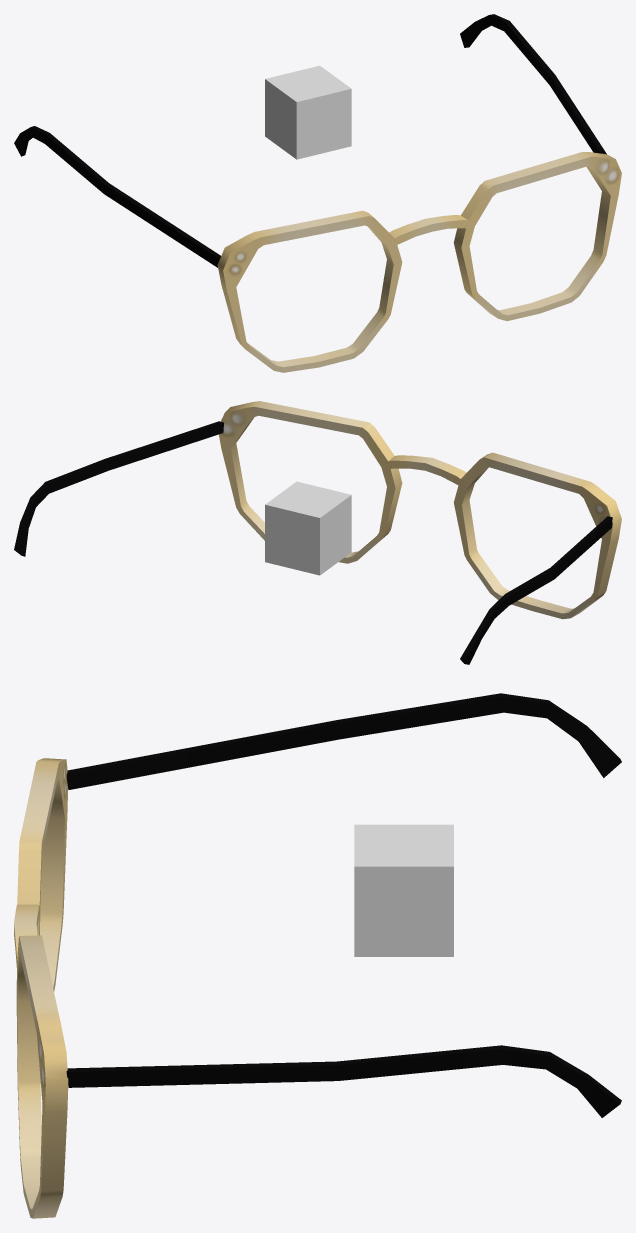
The model's file is girl_glasses9.FBX.
3 renders of one model, top to bottom at view 1: azimuth 30°, elevation 25°; view 2: azimuth 150°, elevation 25°; view 3: azimuth 270°, elevation 25°, orthographic. The views are drawn at different scales.
Parts seen in each view (by area): view 1: girl_glasses018, faceSpawn; view 2: girl_glasses018, faceSpawn; view 3: girl_glasses018, faceSpawn.
Part boxes in pixels (x1=…): girl_glasses018: x1=14, y1=14, x2=621, y2=372; faceSpawn: x1=265, y1=65, x2=351, y2=159; girl_glasses018: x1=14, y1=401, x2=621, y2=664; faceSpawn: x1=265, y1=481, x2=351, y2=575; girl_glasses018: x1=14, y1=693, x2=621, y2=1218; faceSpawn: x1=354, y1=824, x2=453, y2=956.
Size of the model in its own units: 42.25 by 14.6 by 30.52.
